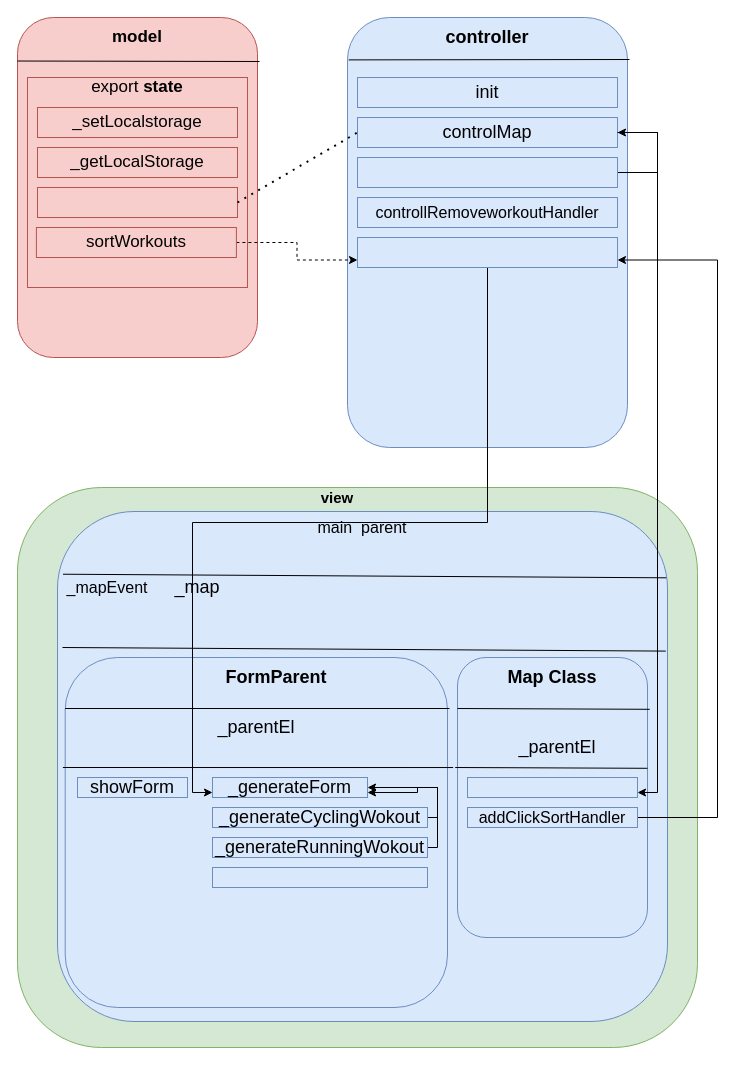
Some shapes in this 743 by 1065 pixel diagram are drawn without their labels. The shapes that lost their labels are listed below. From the top down, each one's centre as x and y in pixels, then its label:
At pixel 487 172: "controlInitData".
At pixel 137 202: "getPoseFromApi".
At pixel 487 252: "controllSortworkoutHandler".
At pixel 552 787: "addClickMapHandler".
At pixel 320 877: "addEventFormSubmit".
